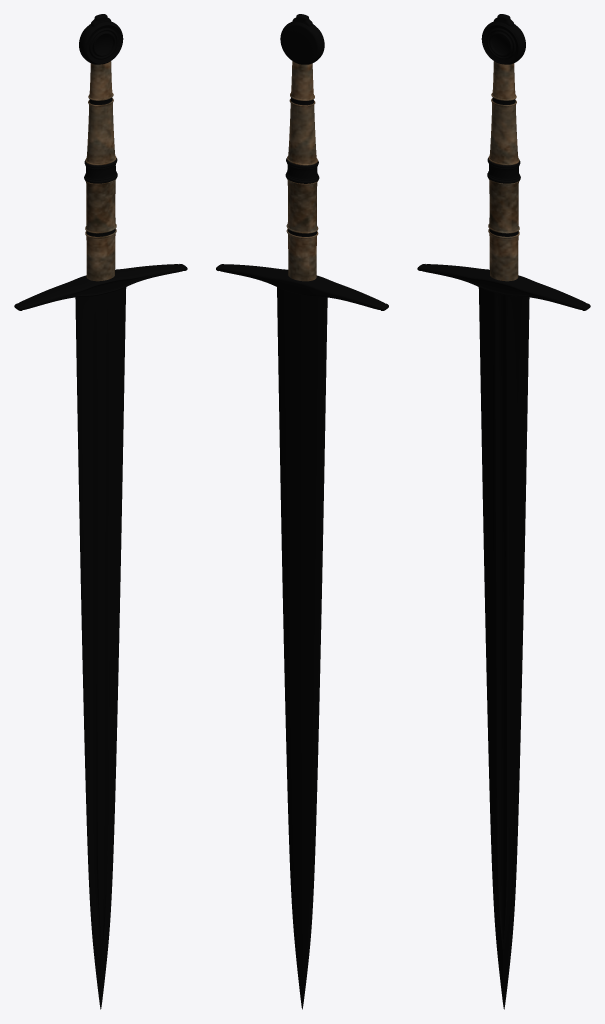
The model's file is longsword merge.fbx.
3 views of the same model, side by side, from view 1: azimuth 30°, elevation 25°; view 2: azimuth 150°, elevation 25°; view 3: azimuth 330°, elevation 25° (orthographic).
Parts seen in each view (by area): view 1: longsword; view 2: longsword; view 3: longsword.
Part boxes in pixels (x1,y1,x2,y2): longsword: (14, 14, 187, 1009); longsword: (216, 14, 388, 1009); longsword: (417, 14, 590, 1009).
Bounding box in the file's own units: 81.74 × 460 × 11.73.
